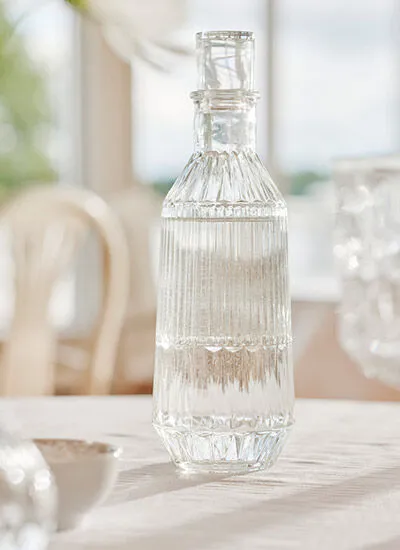glass_bottle: (146, 21, 303, 486)
